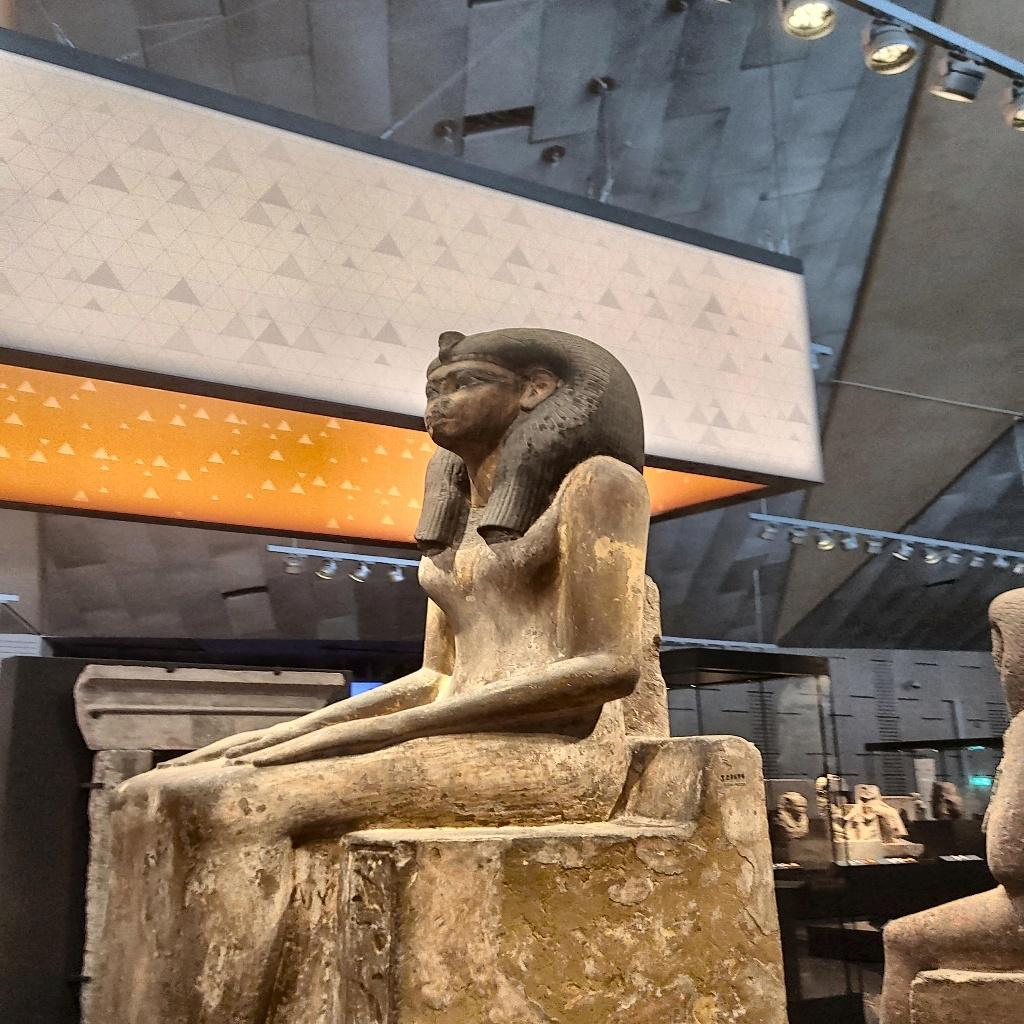Statue of Queen Metnoforet: (103, 318, 653, 1024)
